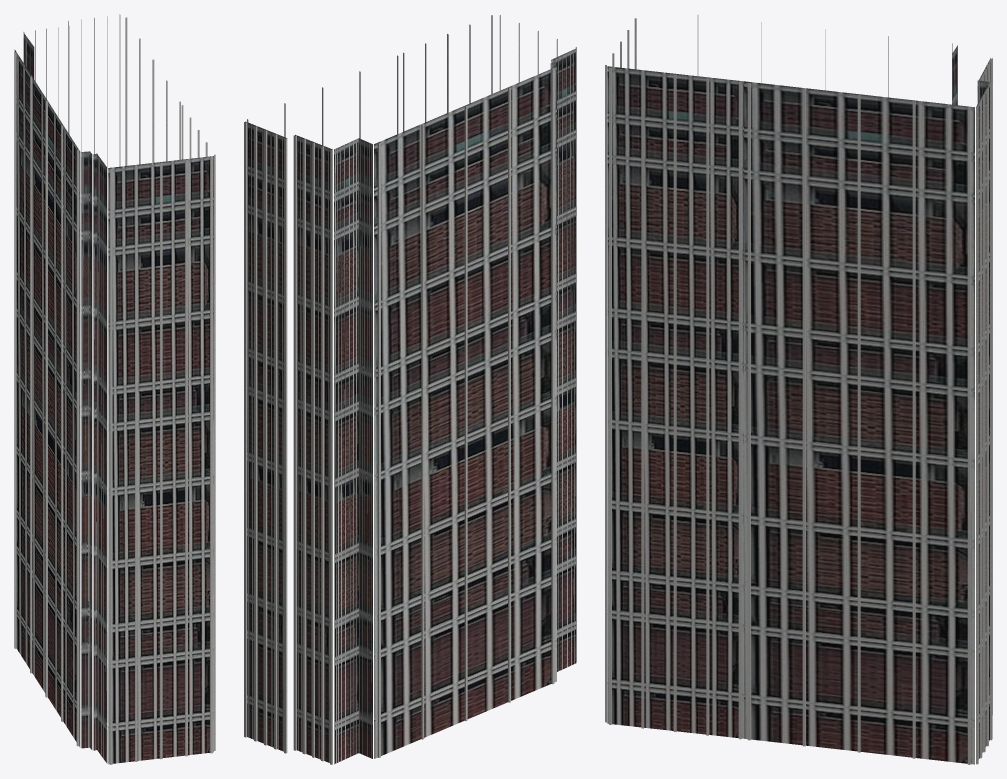
3 renders of one model, left to right at view 1: azimuth 30°, elevation 25°; view 2: azimuth 150°, elevation 25°; view 3: azimuth 270°, elevation 25°, orthographic. The views are drawn at different scales.
Visible parts, largest first — view 1: Surveyed facade, Projecting piers; view 2: Surveyed facade, Projecting piers; view 3: Surveyed facade, Projecting piers.
Part boxes in pixels (x1,y1,x2,y2): Surveyed facade: (14,33,213,764); Projecting piers: (14,14,215,764); Surveyed facade: (245,48,576,764); Projecting piers: (244,15,576,764); Surveyed facade: (607,45,990,764); Projecting piers: (605,14,992,764).
Bounding box in the file's own units: 54.3 × 178 × 95.14.
2 materials, 2 textured.
